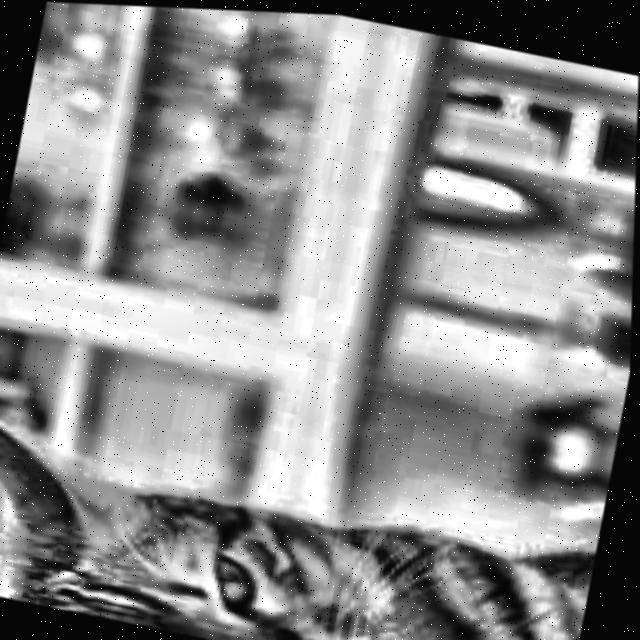cat: (0, 365, 610, 640)
